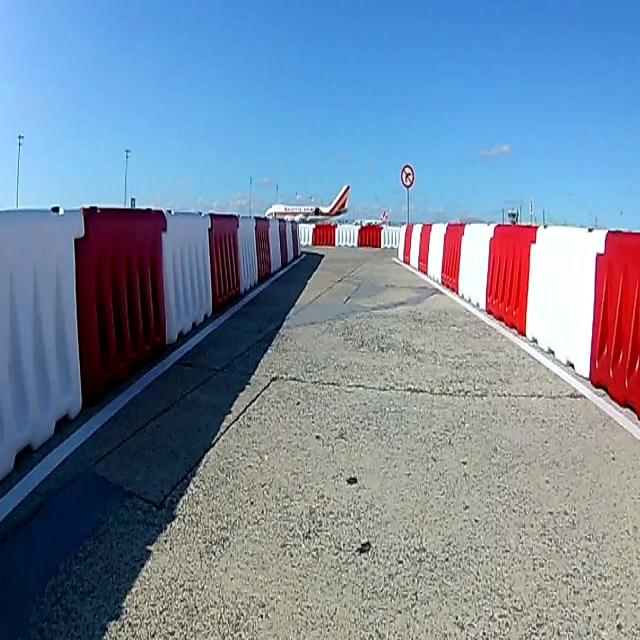sagadonulmez: (402, 165, 414, 188)
